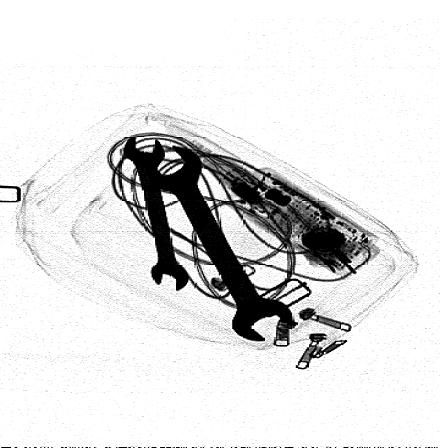Wrench: (149, 148, 295, 341), (123, 136, 190, 291)
